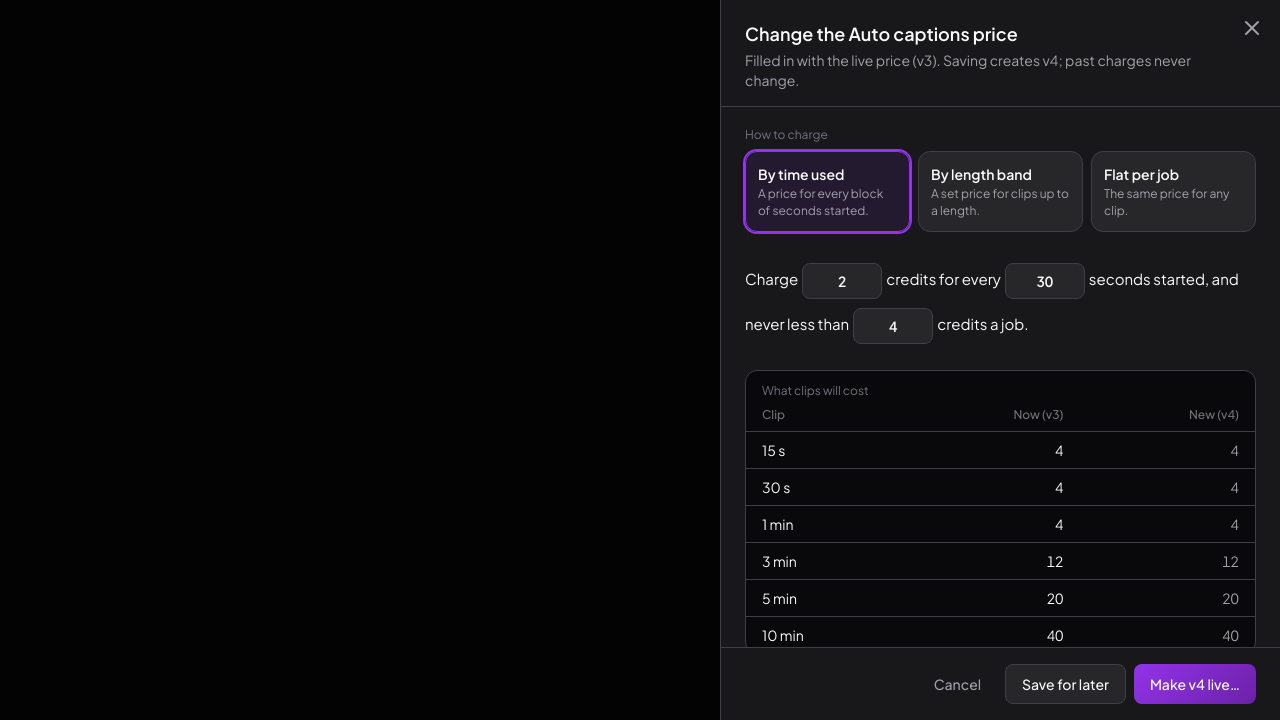
Test: ChangePriceSheet › shows the server's problems when it refuses
What coordinates should you click on to do the following:
click the button "Save for later"
I would click on:
 (1065, 684)
Its box is [1005,664,1126,704].
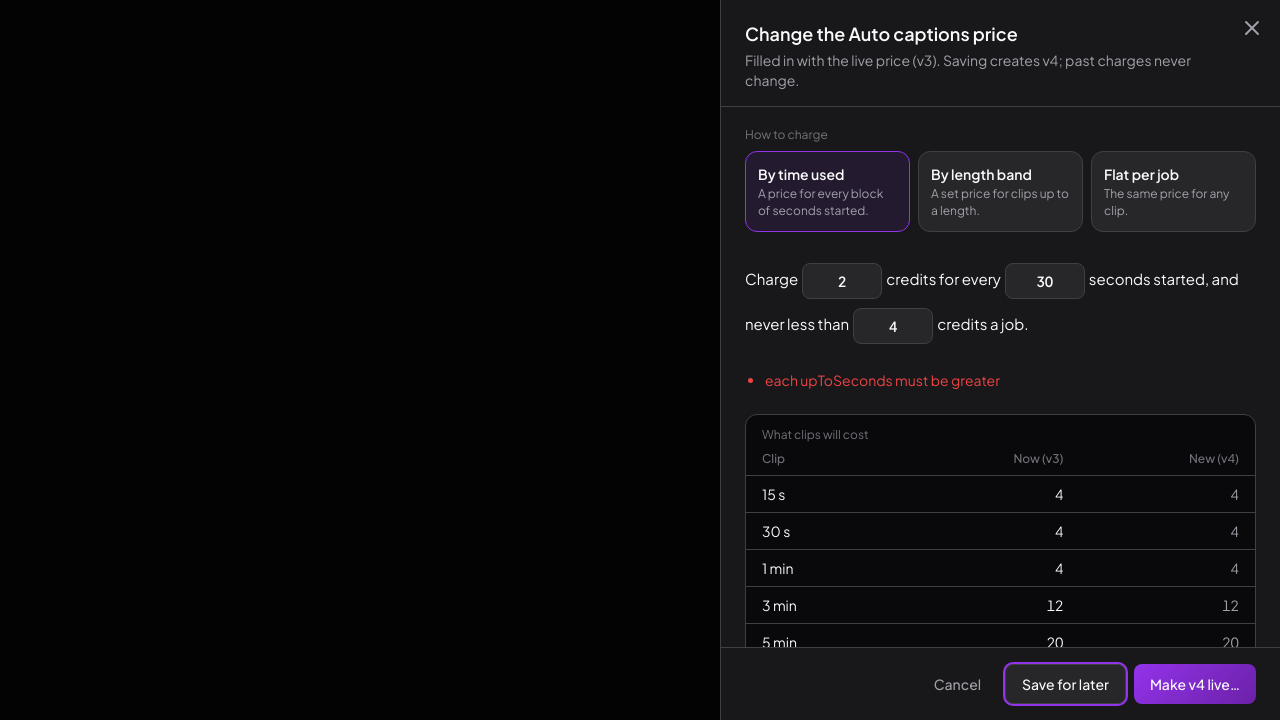
Expected: the list item "each upToSeconds must be greater" is shown, [765,371,1000,389]
